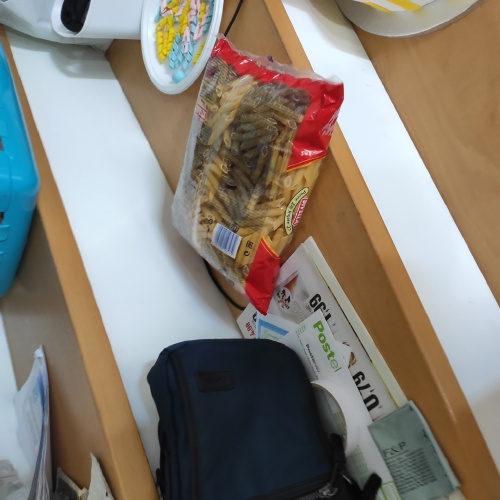pasta: (175, 77, 326, 272)
